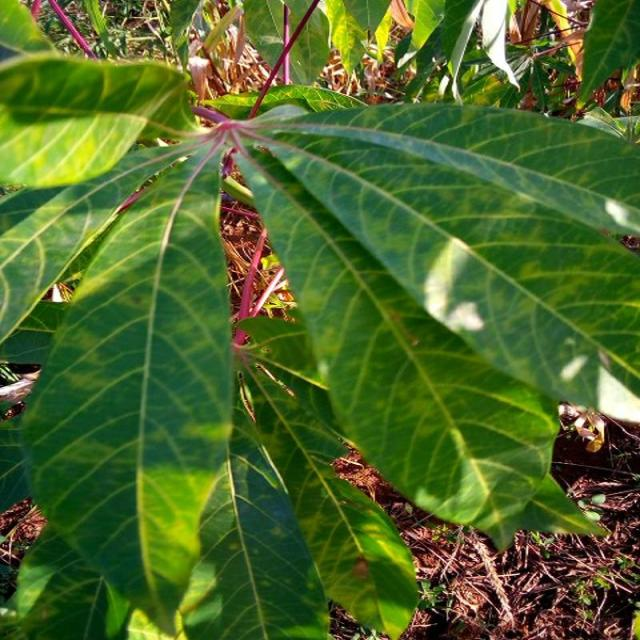cassava leaf: (226, 96, 638, 550), (18, 137, 235, 634)
